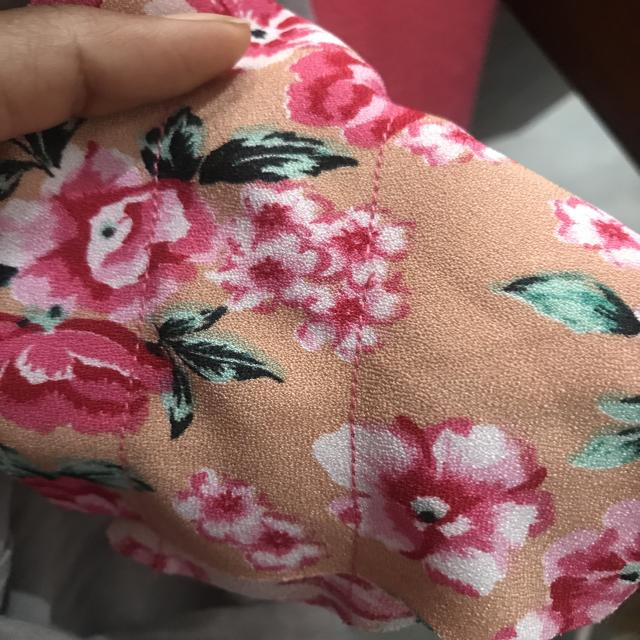broken: (350, 238, 388, 295)
good: (342, 398, 364, 483)
